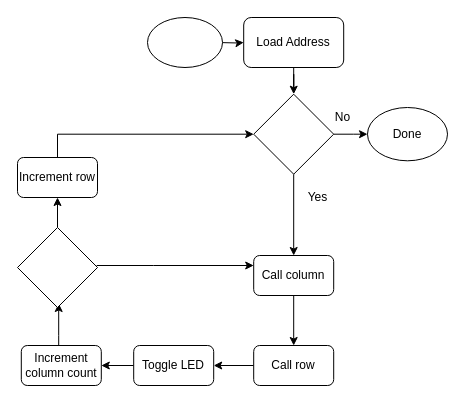
Image size: 465x403. Some labels were removed from this diagram. Here are the shapes that lost their labels. From the top down, the centre of each, then its label:
[184,42]: Start
[293,133]: Any left in Row?
[57,267]: End of column?
